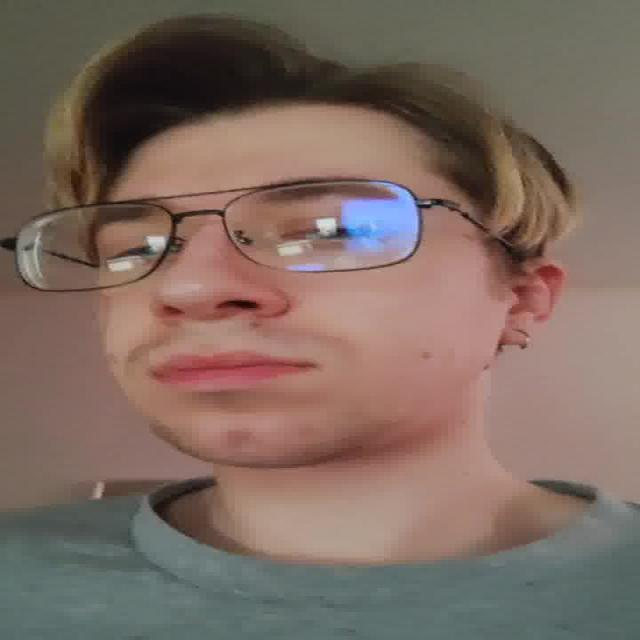earlobe: (495, 320, 541, 347)
eye: (274, 222, 386, 246), (107, 239, 179, 263)
nose: (153, 304, 280, 358)
wholeear: (496, 258, 567, 346)
